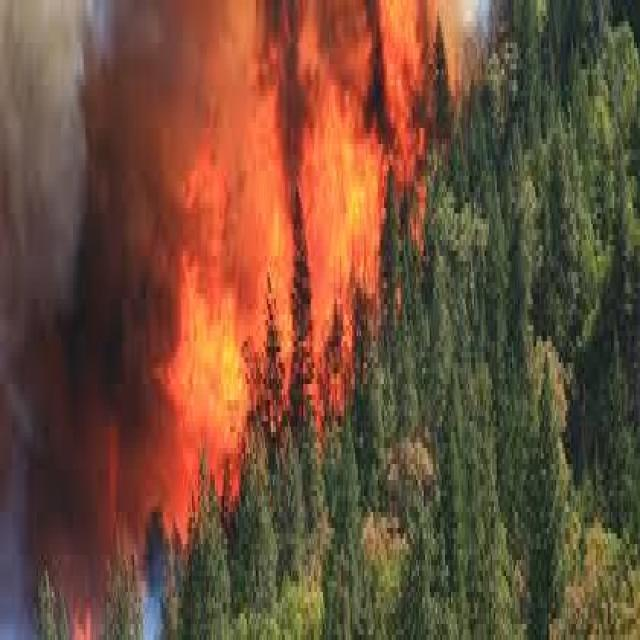Fire: (144, 13, 463, 493), (89, 391, 142, 559), (69, 569, 102, 640)
Smoke: (0, 0, 208, 514)
